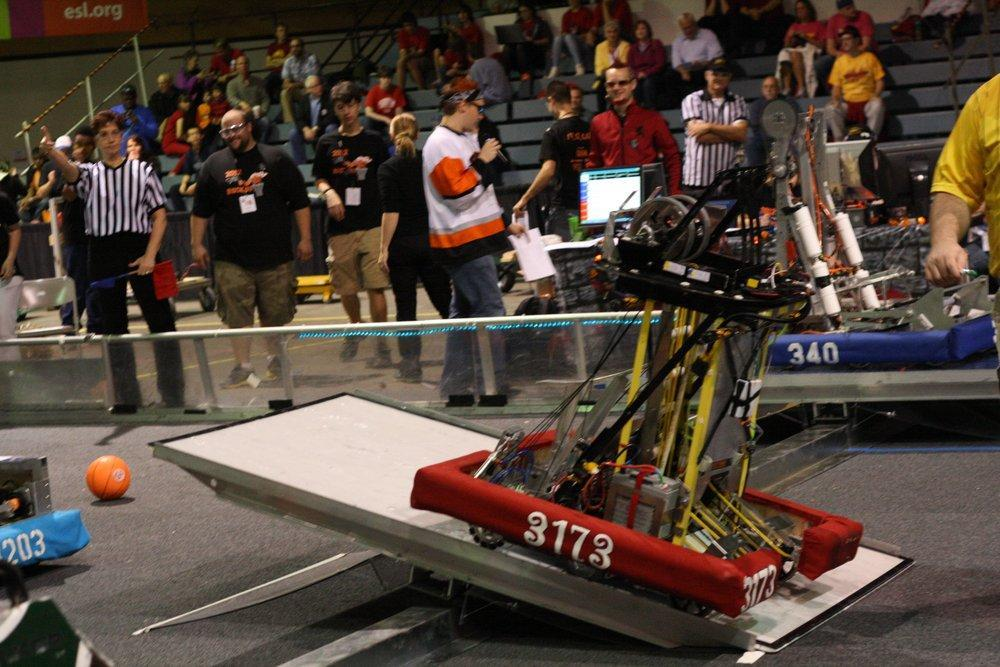robot: (407, 158, 867, 625), (735, 99, 1000, 382), (0, 408, 96, 596)
